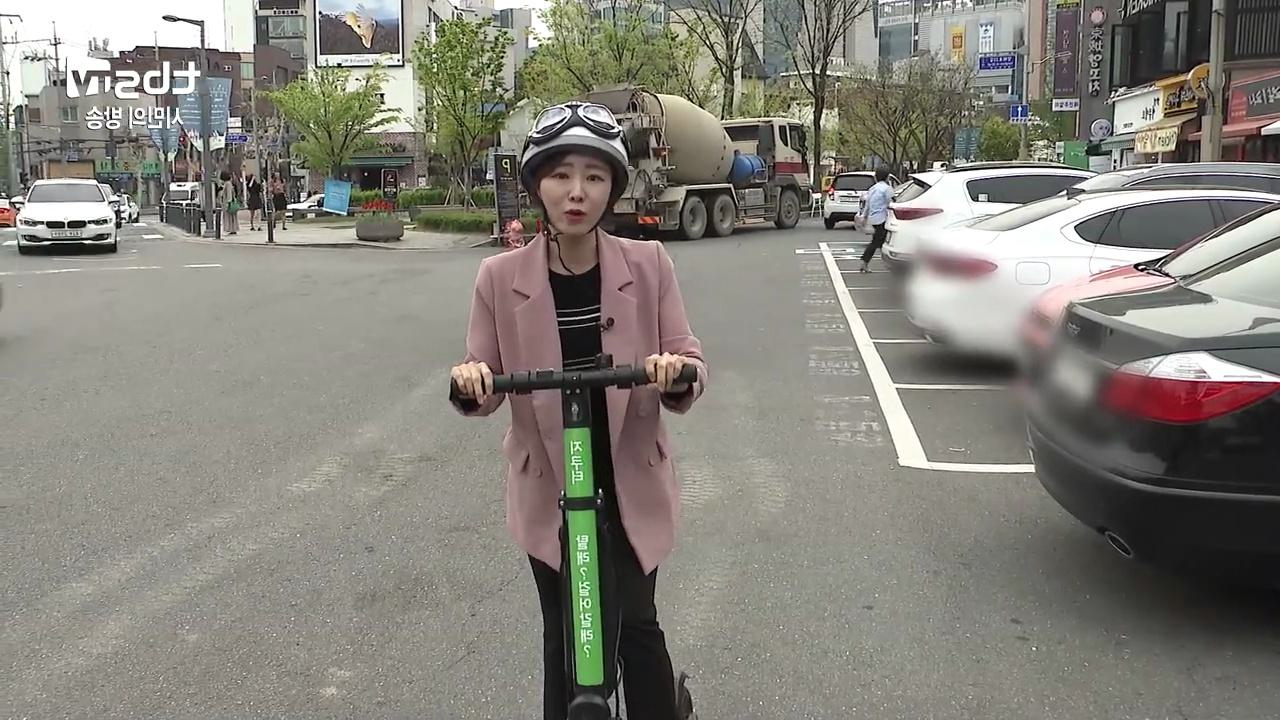helmet: (444, 100, 708, 720)
